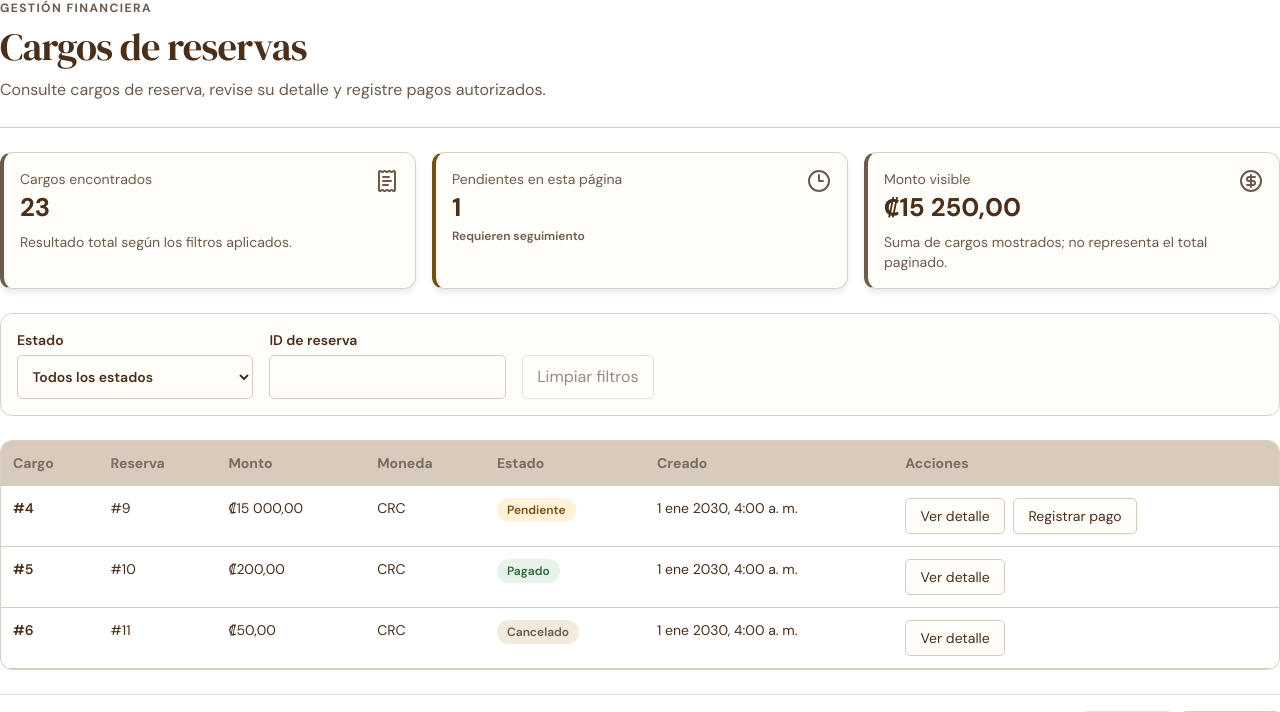
Scenario: FinancialPage › opens the authoritative charge detail modal
Click the button "Ver detalle" in the row of "₡15 000,00" at (955, 516), box x1=905 y1=498 x2=1005 y2=534
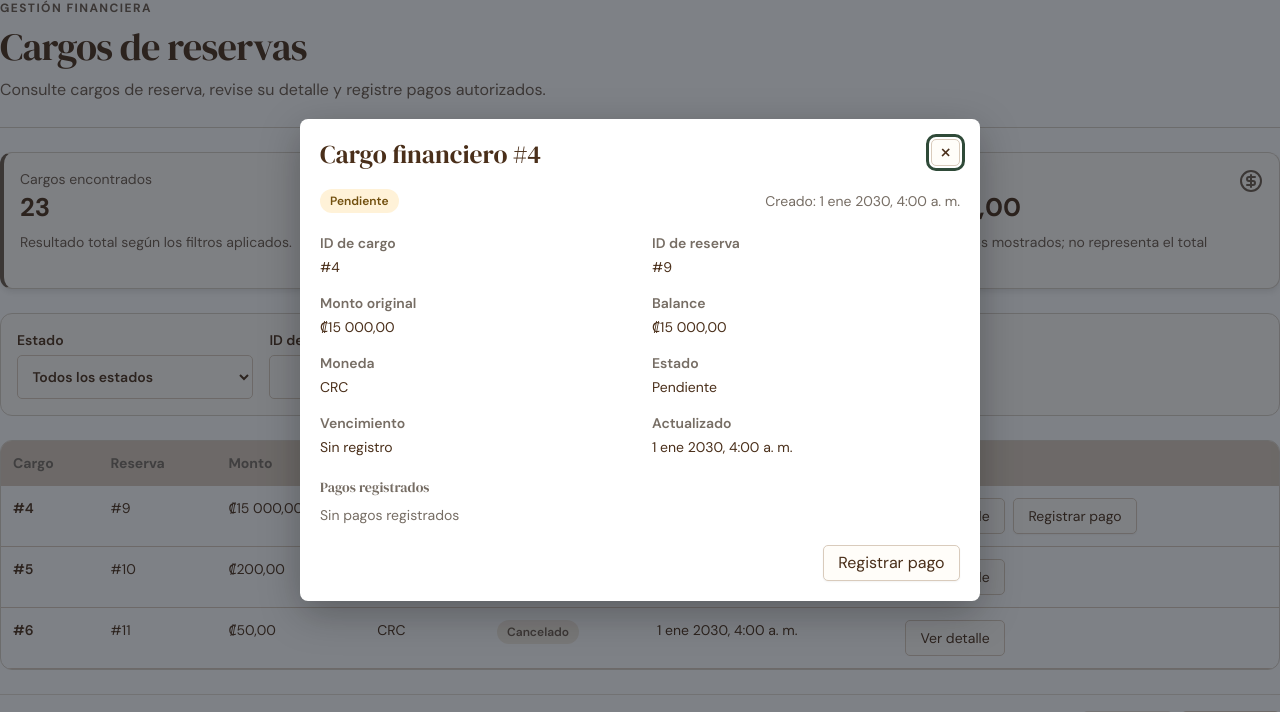
Now the dialog "Cargo financiero #4" is shown, box x1=300 y1=119 x2=980 y2=601
